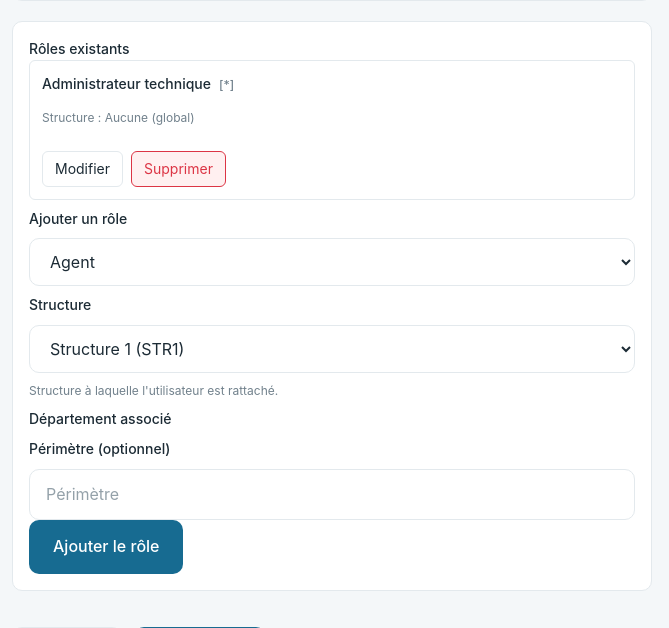
Test case: le département associé s'affiche dans le bloc d'ajout de rôle en édition
This screenshot has width=669, height=628.
(page scrolled)
Select "Structure 1 (STR1)" in the dropdown labelled "Structure" at (332, 349), box [29,325,635,373]
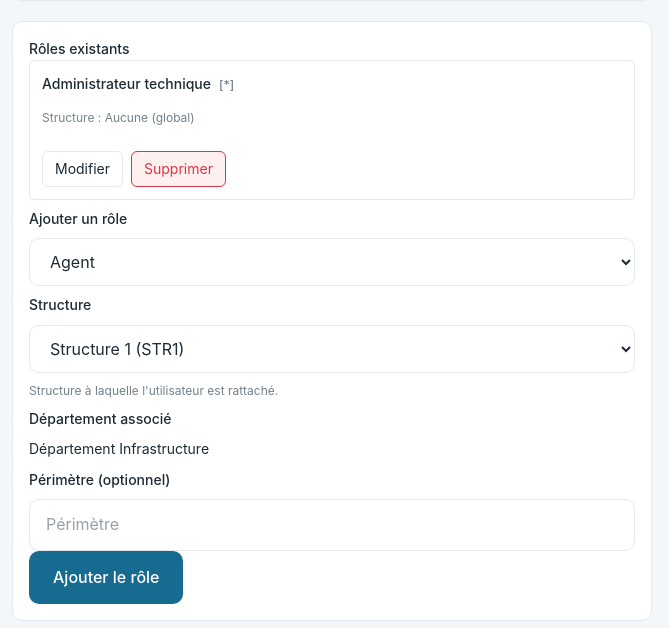
expect the text with test id "add-user-department-value" reads "Département Infrastructure": met, box [29,440,209,457]
